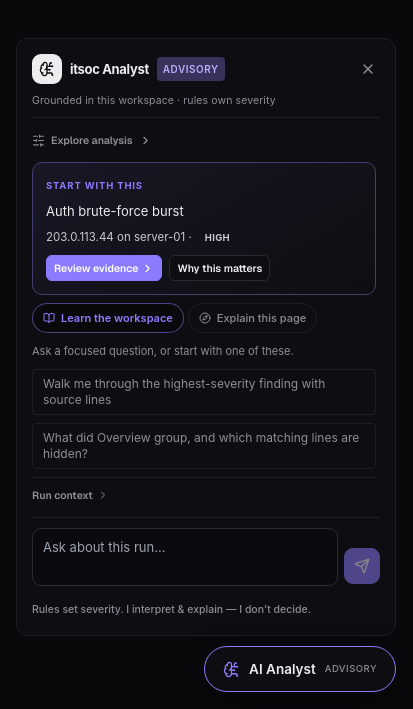
Scenario: CB-1 — learned second opinion in the copilot rail › lists cross-incident disagreements read-only, each linking to its incident
This screenshot has width=413, height=709.
Type "What does the learned model disagree with the rules about?" into the text box at coordinates (185, 557), box [32,528,338,586]
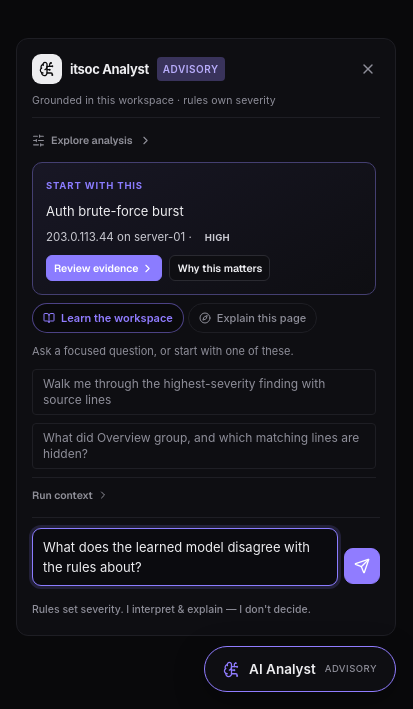
Click the button named "send" at coordinates (362, 566), box [344,548,380,584]
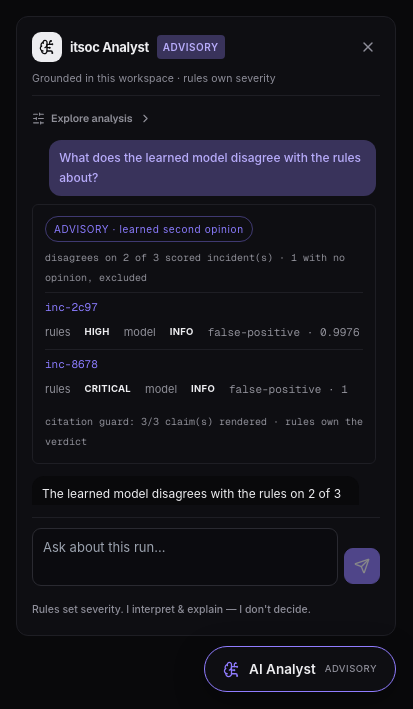
expect the number of links with test id "copilot-learned-row" is 2: met, box [45,292,363,349]; [45,349,363,406]
expect the link with test id "copilot-learned-row" shows "false-positive": met, box [45,292,363,349]
expect the element with test id "copilot-learned" shows "1 with no opinion, excluded": met, box [45,251,345,284]
